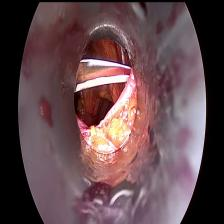Scissors: (75, 56, 129, 92)
